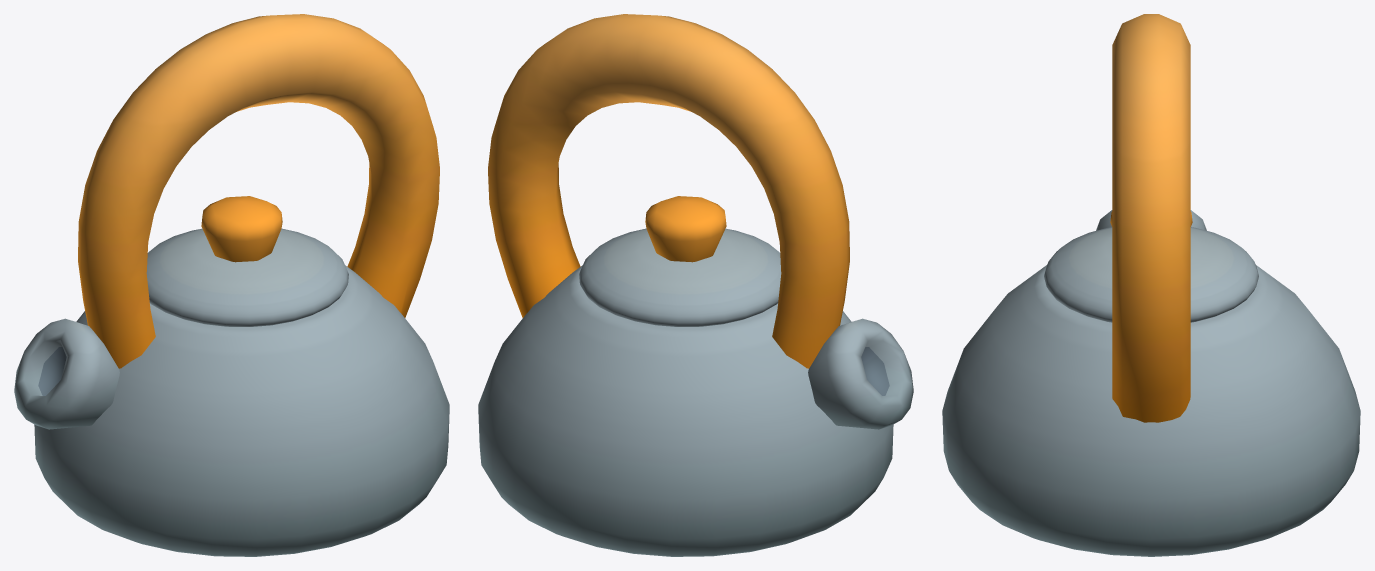
Rendered from Teapot_03.glb.
3 views of the same model, side by side, from view 1: azimuth 30°, elevation 25°; view 2: azimuth 150°, elevation 25°; view 3: azimuth 270°, elevation 25° (orthographic).
Visible parts, largest first — view 1: Teapot_03; view 2: Teapot_03; view 3: Teapot_03.
Part boxes in pixels (x1,y1,x2,y2): Teapot_03: [14, 14, 449, 556]; Teapot_03: [478, 14, 913, 556]; Teapot_03: [942, 14, 1360, 556].
Size of the model in its own units: 0.2182 by 0.2346 by 0.1933.
1 material, 1 textured.
